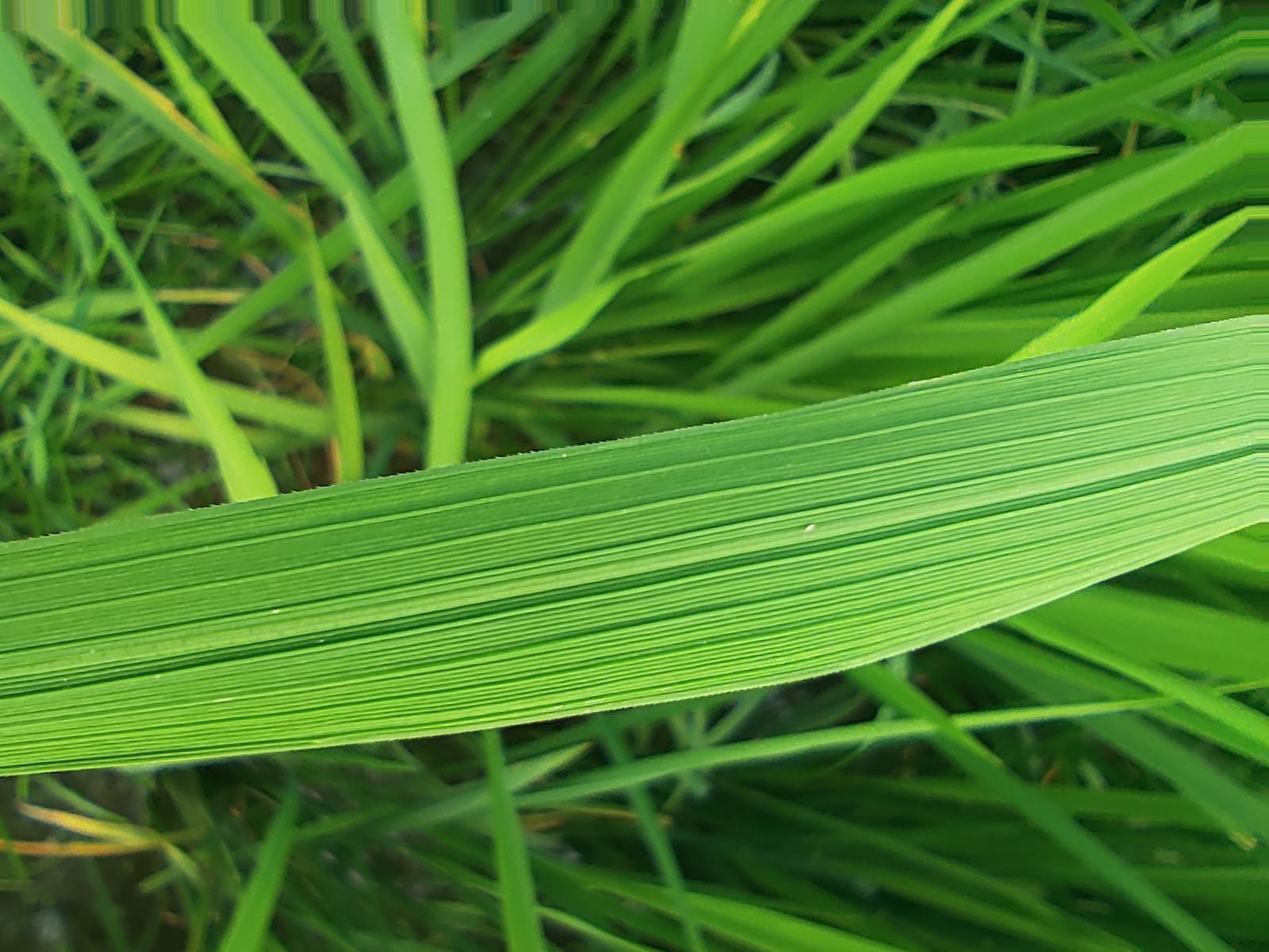Healthy: (0, 313, 1268, 774)
